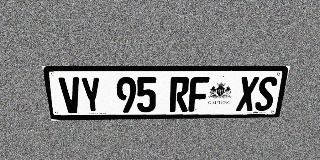5: (137, 77, 156, 112)
9: (116, 77, 137, 113)
F: (188, 77, 210, 112)
R: (169, 77, 190, 112)
S: (254, 76, 278, 111)
V: (58, 77, 83, 113)
X: (236, 77, 259, 111)
Y: (79, 77, 103, 113)
